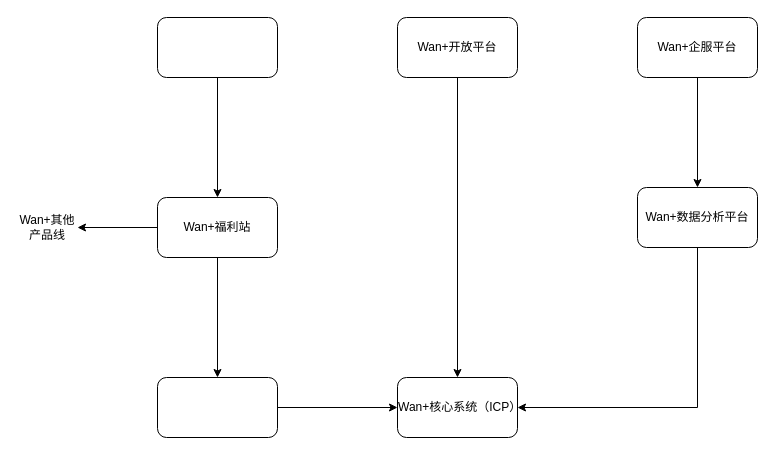
Image size: 775x455. Some labels were removed from this diagram. Here are the shapes that lost their labels. From the top down, the centre of each, then its label:
the point at 217,47: Wan+单点认证系统
the point at 217,407: Wan+弹性福利系统
